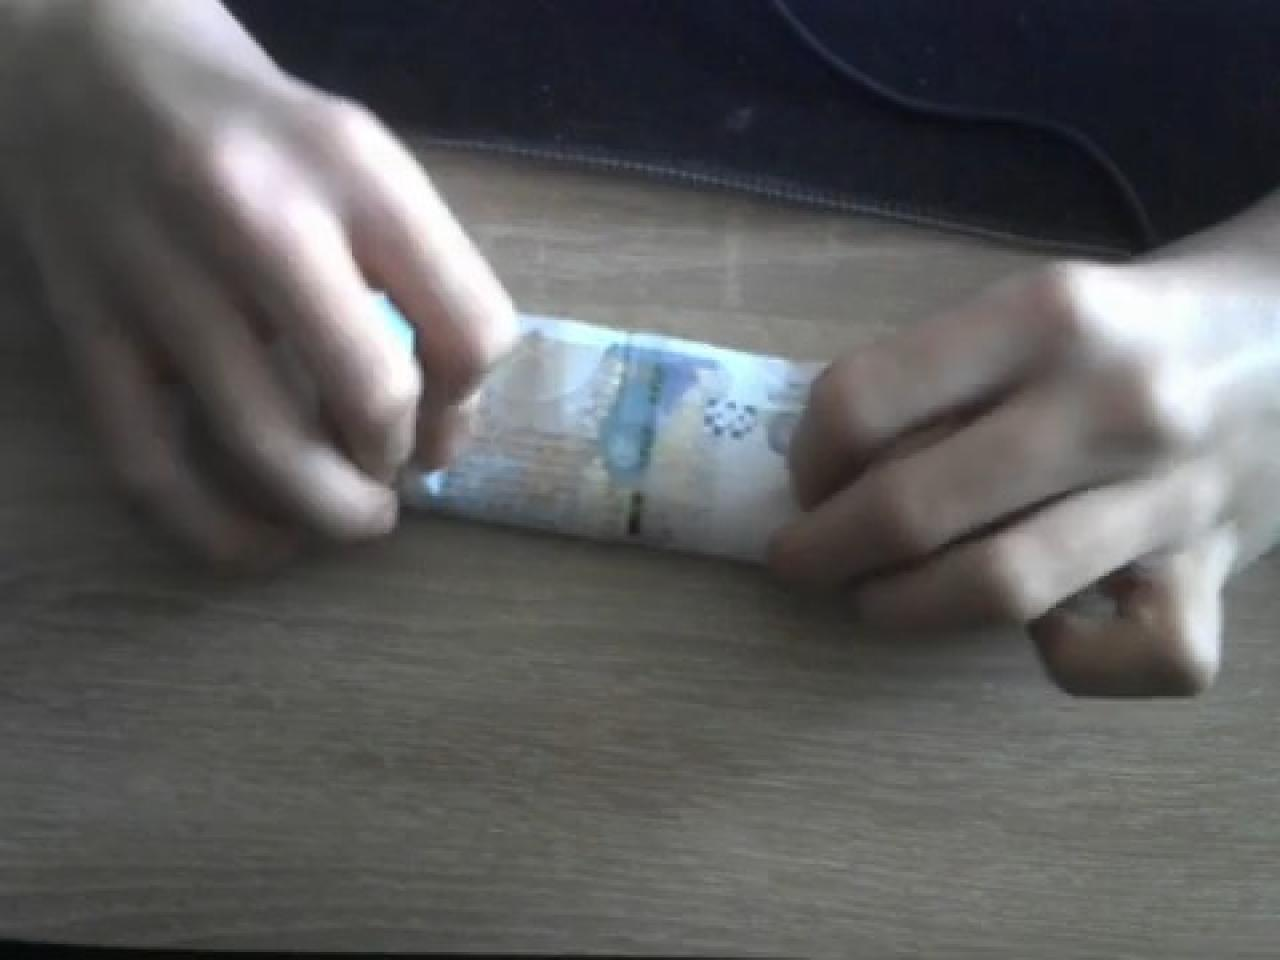20leva: (403, 318, 826, 568)
